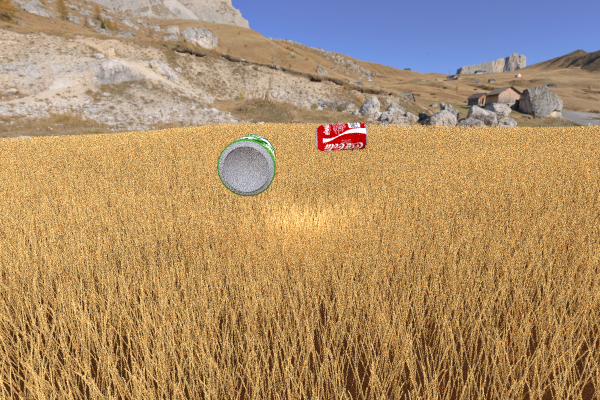bottle: (27, 131, 104, 204)
can: (217, 133, 275, 196), (314, 122, 368, 151)
